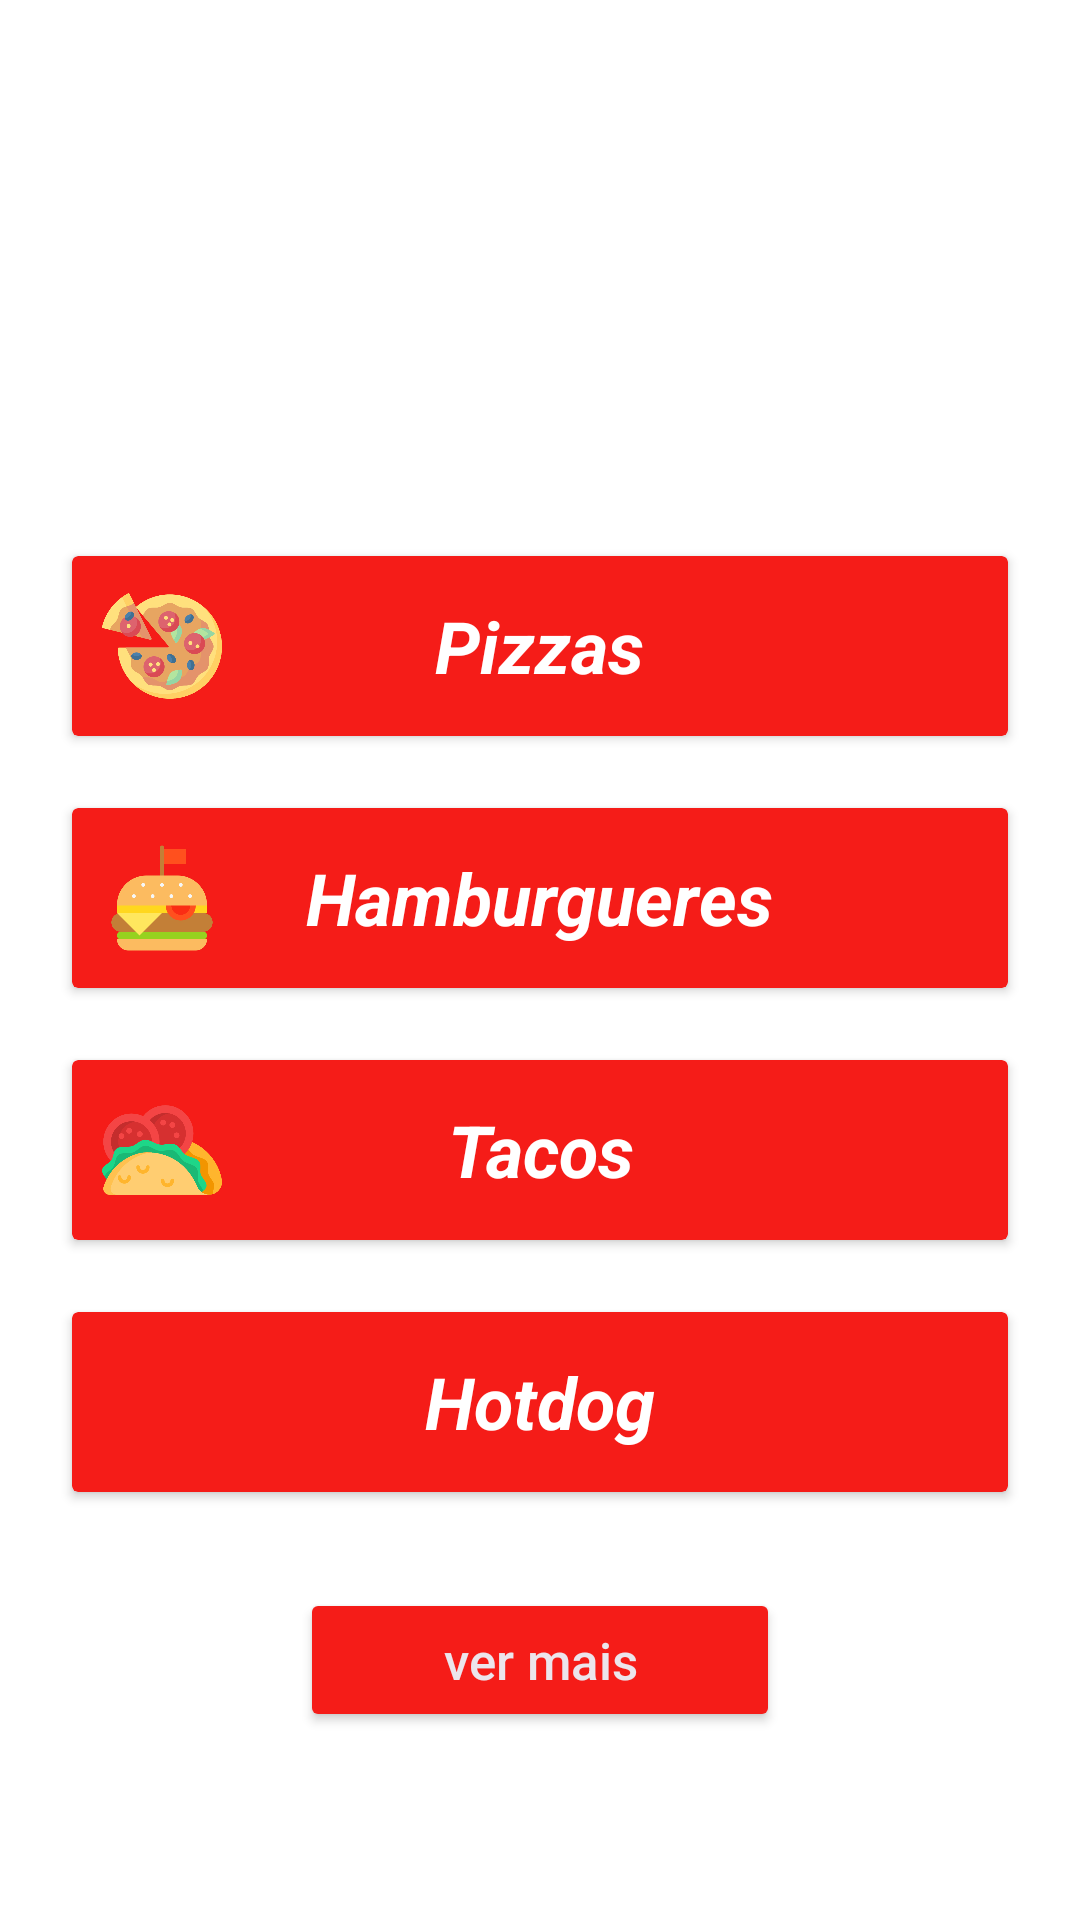

Screen size 1080 × 1920. Icon name, then its box in pixels as BBox(x1, y1, x2, y2):
pizza: BBox(102, 593, 222, 699)
tacos: BBox(102, 1105, 222, 1195)
